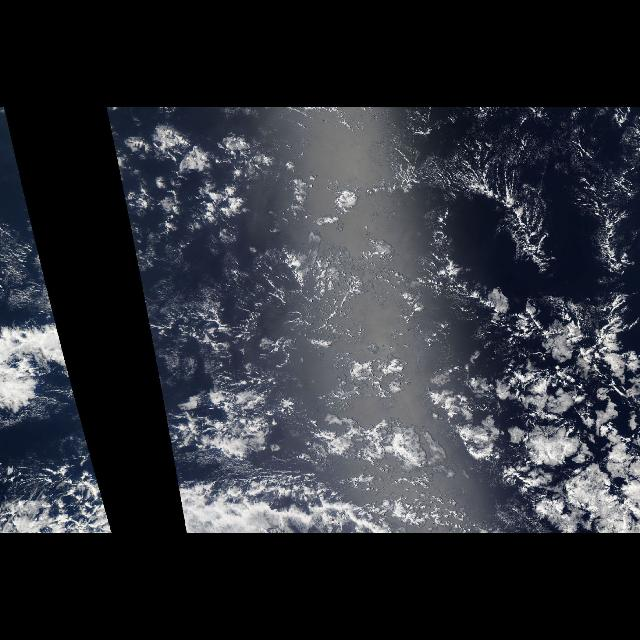Fish: (348, 136, 636, 284)
Flower: (417, 287, 633, 491)
Sugar: (135, 110, 630, 384)
